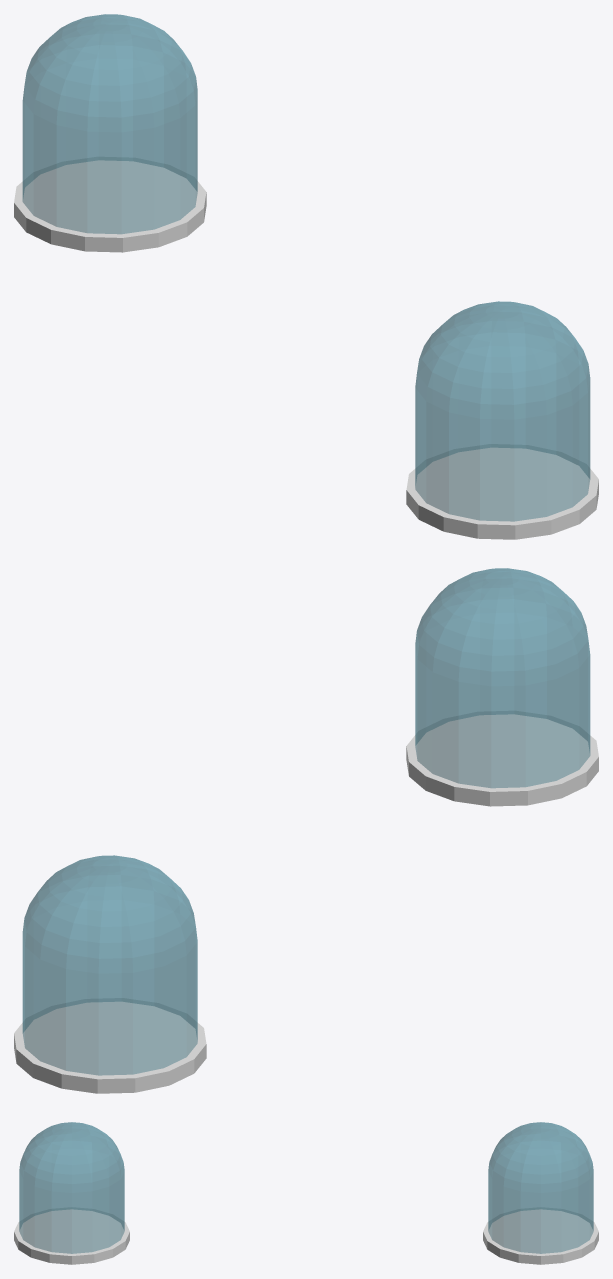
The model's file is avatarcapsules_empty.glb.
3 views of the same model, one above another, from view 1: azimuth 30°, elevation 25°; view 2: azimuth 150°, elevation 25°; view 3: azimuth 270°, elevation 25° (orthographic). The views are drawn at different scales.
Visible parts, largest first — view 1: Capsule_tcollider.001, Capsule_tcollider, Capsule_base_tcollider, Capsule_base_tcollider.001; view 2: Capsule_tcollider, Capsule_tcollider.001, Capsule_base_tcollider.001, Capsule_base_tcollider; view 3: Capsule_tcollider, Capsule_tcollider.001, Capsule_base_tcollider, Capsule_base_tcollider.001.
Part boxes in pixels (x1=…): Capsule_tcollider.001: x1=22, y1=14, x2=197, y2=233; Capsule_tcollider: x1=415, y1=301, x2=590, y2=521; Capsule_base_tcollider: x1=406, y1=444, x2=598, y2=539; Capsule_base_tcollider.001: x1=14, y1=157, x2=206, y2=252; Capsule_tcollider: x1=415, y1=568, x2=590, y2=787; Capsule_tcollider.001: x1=22, y1=855, x2=197, y2=1075; Capsule_base_tcollider.001: x1=14, y1=998, x2=206, y2=1093; Capsule_base_tcollider: x1=406, y1=711, x2=598, y2=806; Capsule_tcollider: x1=19, y1=1122, x2=124, y2=1253; Capsule_tcollider.001: x1=488, y1=1122, x2=593, y2=1253; Capsule_base_tcollider: x1=14, y1=1207, x2=129, y2=1264; Capsule_base_tcollider.001: x1=483, y1=1207, x2=598, y2=1264.
Size of the model in its own units: 2.42 by 2.6 by 12.2.
Materials: 2 (2 with a texture image).
